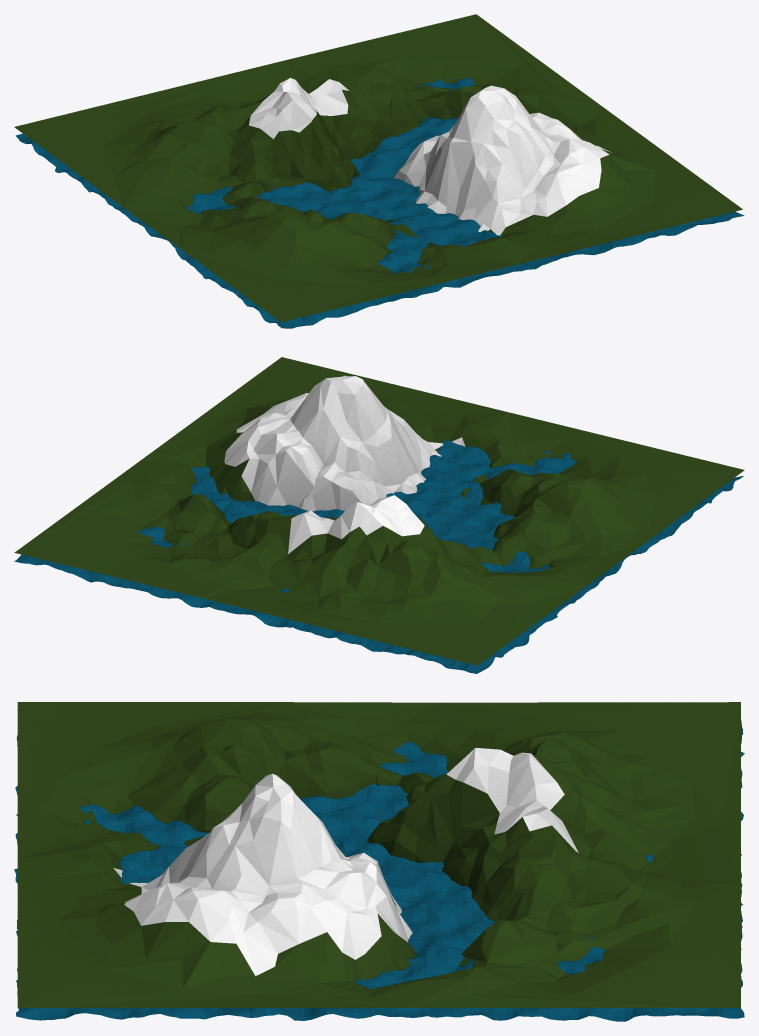
The picture shows the model from 3 angles, top to bottom: view 1: azimuth 30°, elevation 25°; view 2: azimuth 150°, elevation 25°; view 3: azimuth 270°, elevation 25°; orthographic projection. The views are drawn at different scales.
Visible parts, largest first — view 1: Landscape, Landscape_plane; view 2: Landscape, Landscape_plane; view 3: Landscape, Landscape_plane.
Boxes of the visible parts, bbox=[...] form: Landscape: bbox=[14, 14, 742, 322]; Landscape_plane: bbox=[15, 78, 744, 328]; Landscape: bbox=[14, 357, 744, 665]; Landscape_plane: bbox=[14, 440, 743, 673]; Landscape: bbox=[17, 702, 740, 1007]; Landscape_plane: bbox=[14, 710, 744, 1021].
Bounding box in the file's own units: 10.15 × 2.38 × 10.1.
4 materials, 3 textured.
